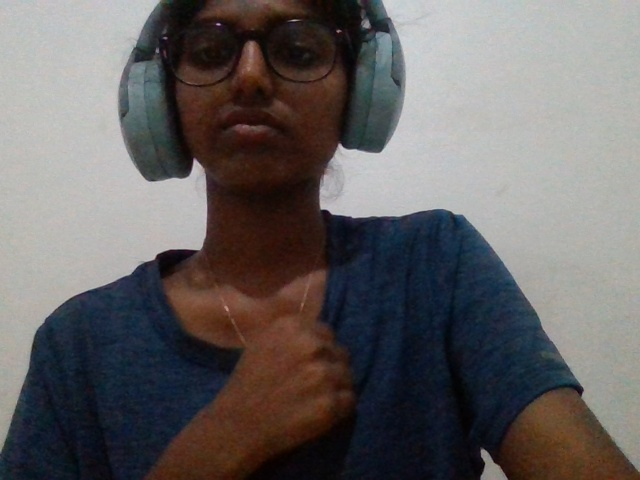Sorry: (166, 290, 395, 480)
